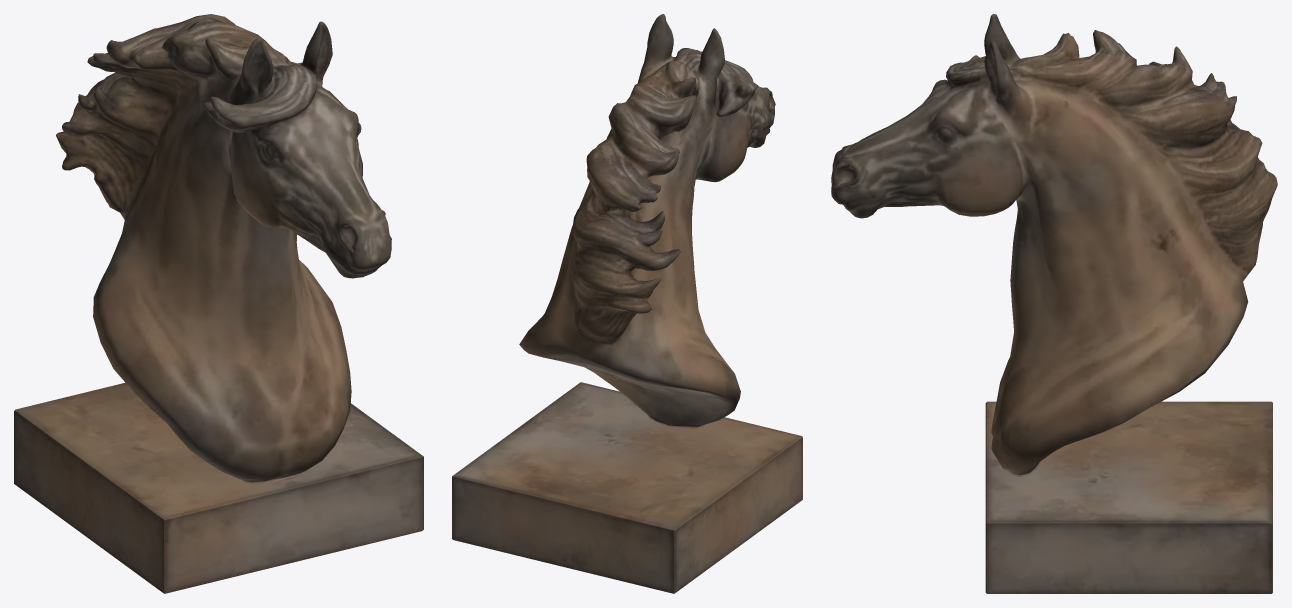
Rendered from horse_head.3493bd17.glb.
The picture shows the model from 3 angles, left to right: view 1: azimuth 30°, elevation 25°; view 2: azimuth 150°, elevation 25°; view 3: azimuth 270°, elevation 25°; orthographic projection. The views are drawn at different scales.
Visible parts, largest first — view 1: horse_head; view 2: horse_head; view 3: horse_head.
Boxes of the visible parts, <box> form: horse_head: <box>14,14,423,593</box>; horse_head: <box>452,14,802,593</box>; horse_head: <box>831,14,1277,593</box>.
Size of the model in its own units: 0.4632 by 0.902 by 0.72.
1 material, 1 textured.
